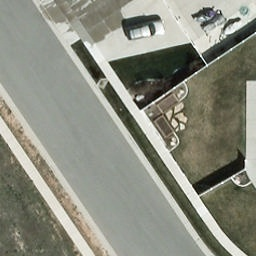car: (125, 21, 167, 44)
